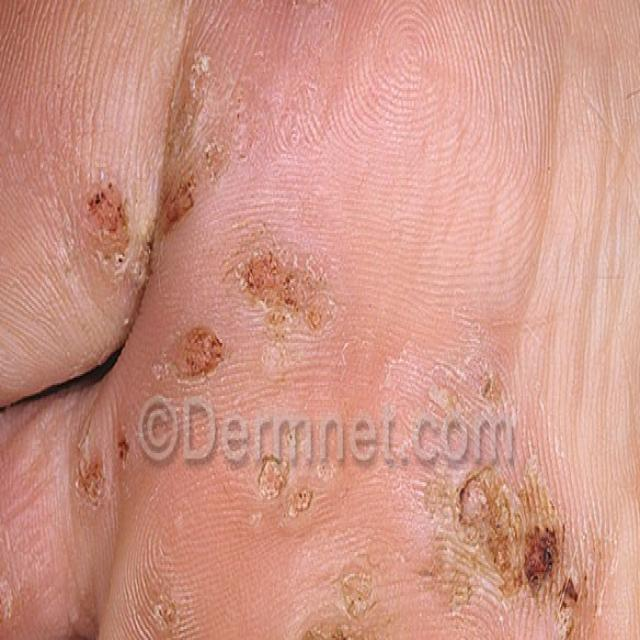Warts: (435, 409, 621, 640), (155, 57, 221, 250), (234, 243, 328, 351), (68, 150, 142, 275), (72, 439, 129, 550), (283, 572, 372, 640), (172, 304, 217, 395), (138, 572, 189, 640), (0, 569, 18, 633)
